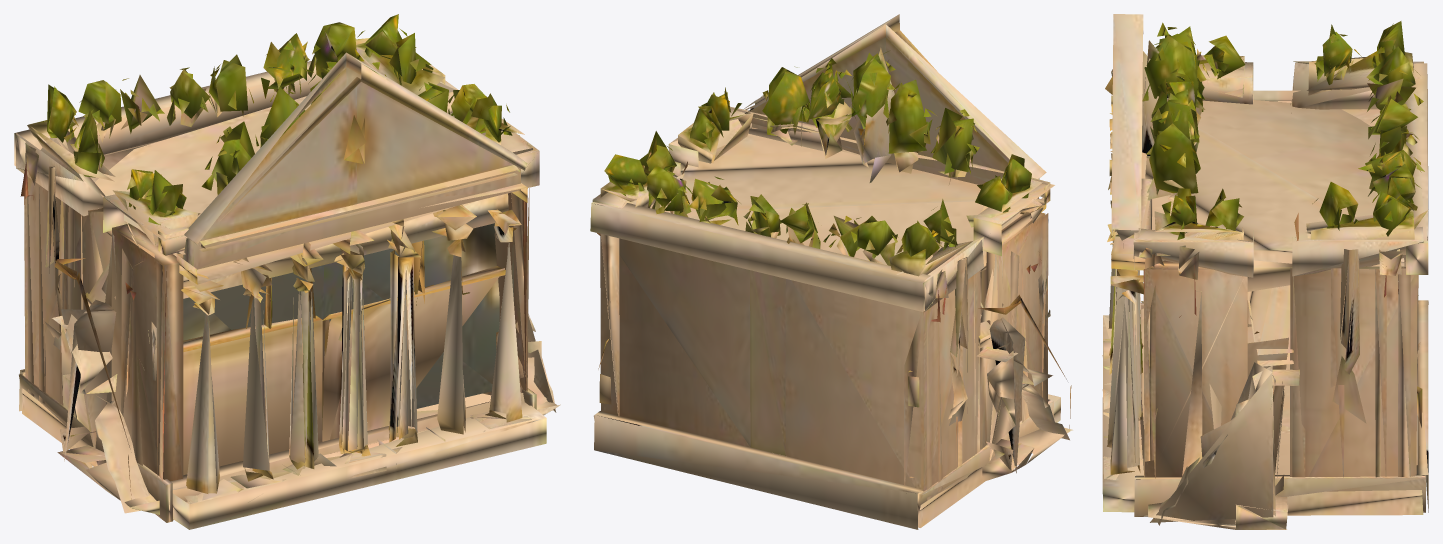
The model's file is old-exchange.lod1.glb.
The picture shows the model from 3 angles, left to right: view 1: azimuth 30°, elevation 25°; view 2: azimuth 150°, elevation 25°; view 3: azimuth 270°, elevation 25°; orthographic projection. The views are drawn at different scales.
Visible parts, largest first — view 1: old-exchange_lod1; view 2: old-exchange_lod1; view 3: old-exchange_lod1.
Part boxes in pixels (x1,y1,x2,y2): old-exchange_lod1: (14,14,560,529); old-exchange_lod1: (590,14,1072,529); old-exchange_lod1: (1102,14,1428,529).
Size of the model in its own units: 6.22 by 5.63 by 4.
1 material, 1 textured.
